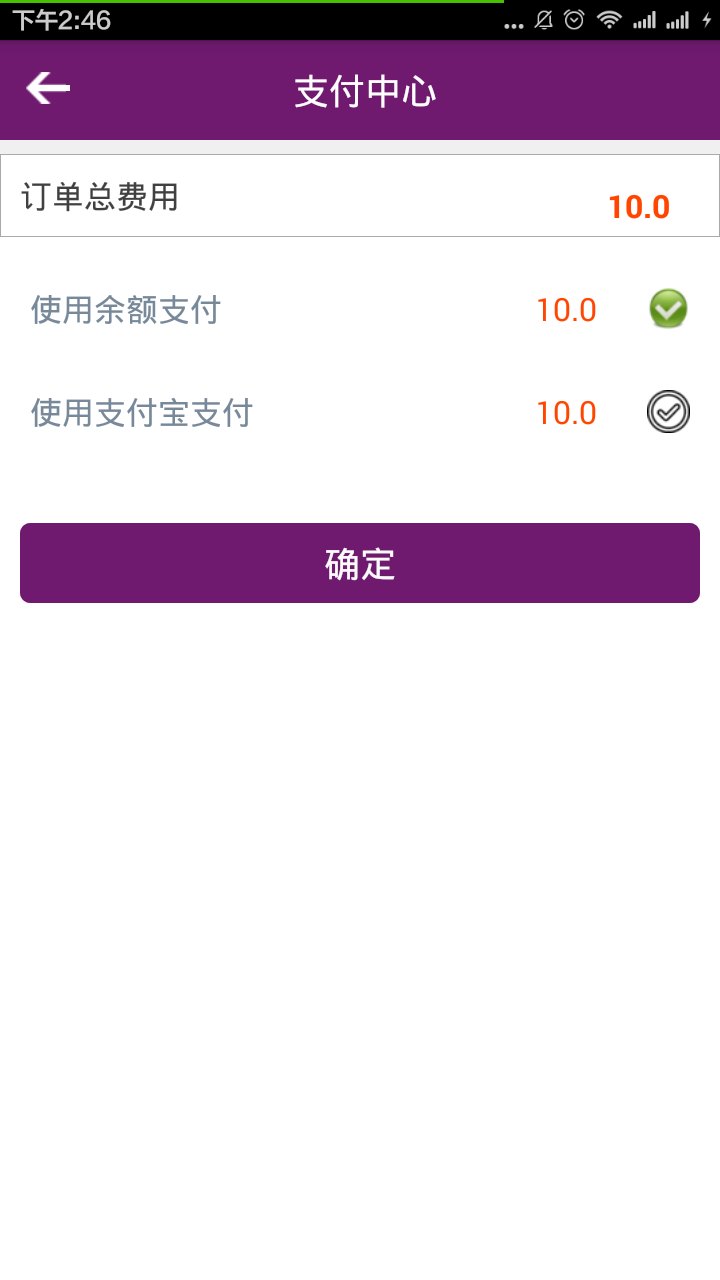button: (10, 512, 710, 614)
imgbutton: (15, 63, 79, 114)
radiobutton: (628, 269, 699, 466)
textview: (6, 152, 720, 240)
